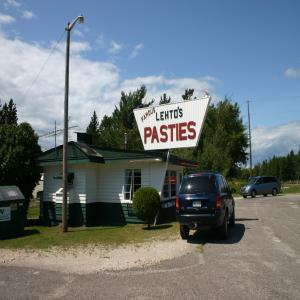Vehicle-registration-plate: (194, 203, 201, 208)
